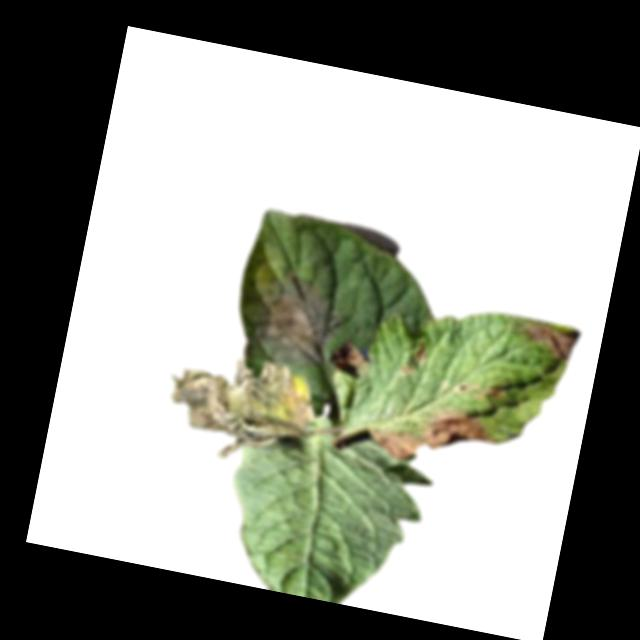Late_blight: (159, 344, 328, 478), (364, 392, 501, 478), (247, 262, 345, 371), (506, 315, 582, 368), (326, 338, 373, 383), (452, 376, 509, 408), (395, 337, 429, 380)
healthy: (216, 421, 436, 616)
